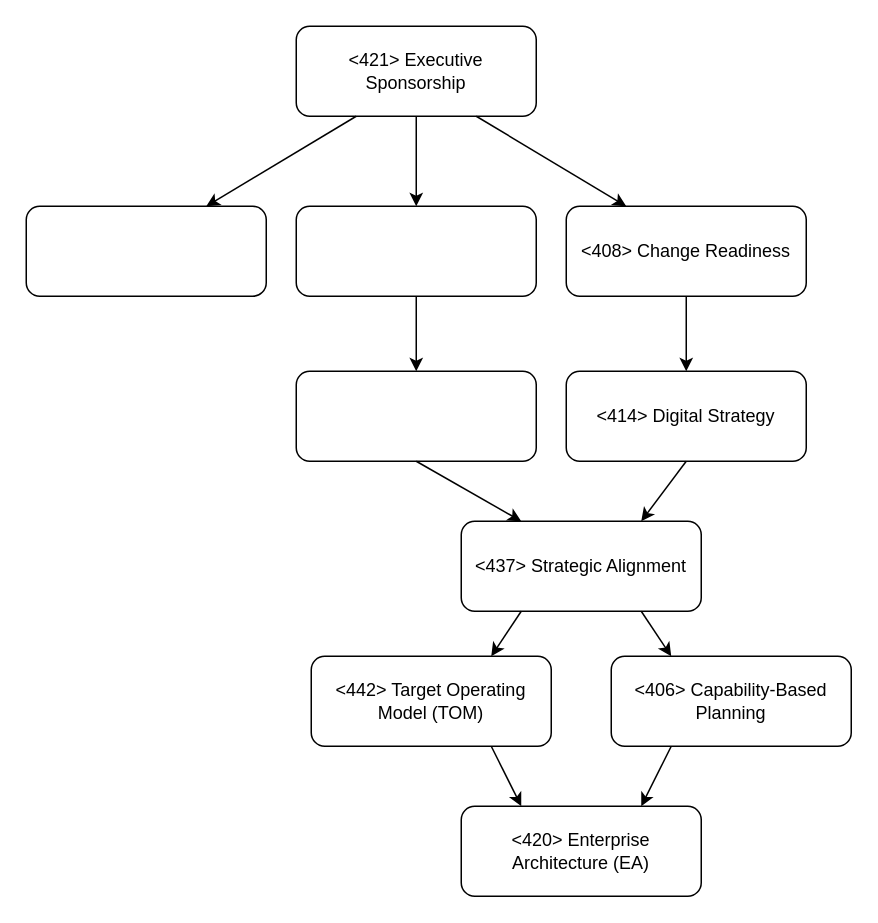
Some shapes in this 878 by 923 pixel diagram are drawn without their labels. The centre of each missing label's shape, as x and y in pixels:
"<125> Organizational Culture" belongs at point 145,250.
"<212> Governance of IT" belongs at point 415,250.
"<438> Strategic Planning" belongs at point 415,415.
